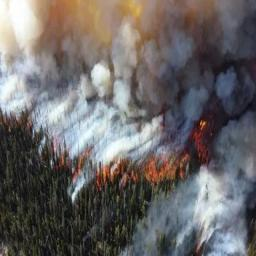Heavy smoke: (0, 0, 252, 251)
Medium fire: (64, 106, 221, 181)
